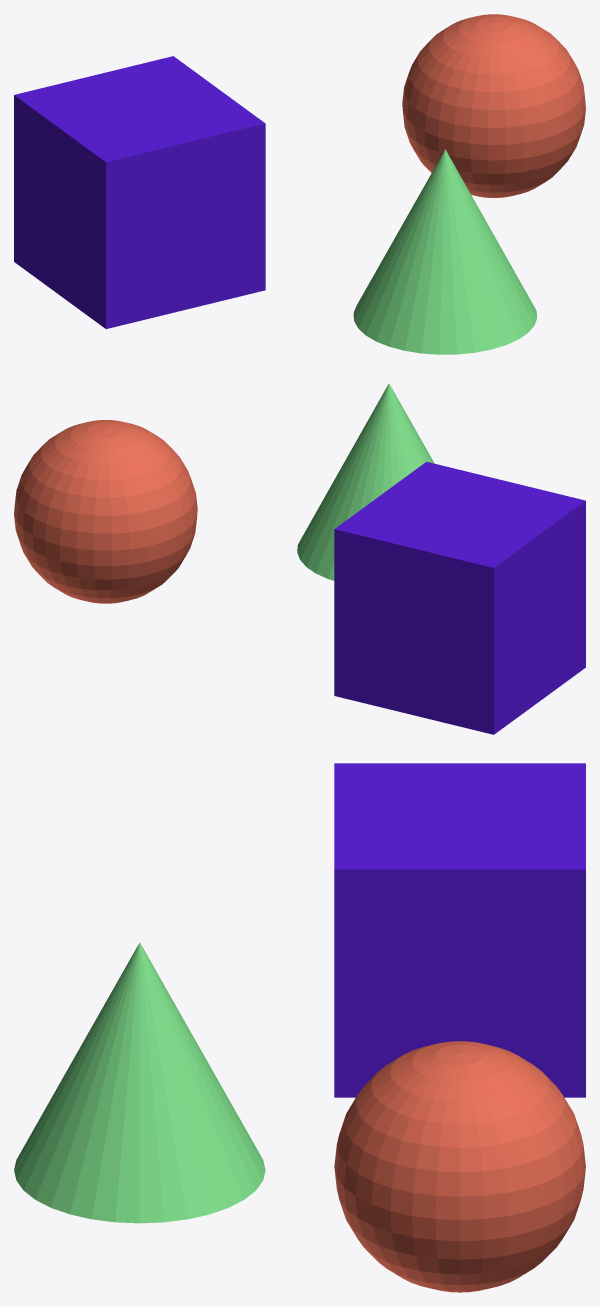
The model's file is blender_scene01.glb.
The picture shows the model from 3 angles, top to bottom: view 1: azimuth 30°, elevation 25°; view 2: azimuth 150°, elevation 25°; view 3: azimuth 270°, elevation 25°; orthographic projection. The views are drawn at different scales.
Parts seen in each view (by area): view 1: Cube, Sphere, Cone; view 2: Cube, Sphere, Cone; view 3: Cube, Sphere, Cone.
Boxes of the visible parts, box(x1,y1,x2,y2) form: Cube: box(14, 56, 265, 328); Sphere: box(402, 14, 585, 197); Cone: box(353, 149, 537, 354); Cube: box(334, 461, 585, 734); Sphere: box(14, 420, 197, 603); Cone: box(297, 383, 434, 580); Cube: box(334, 763, 585, 1097); Sphere: box(334, 1041, 585, 1292); Cone: box(14, 942, 265, 1223).
Bounding box in the file's own units: 6.44 × 2 × 4.55.
